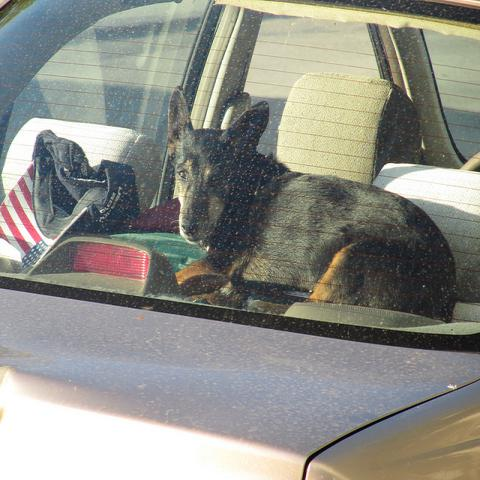car: (2, 4, 473, 475)
